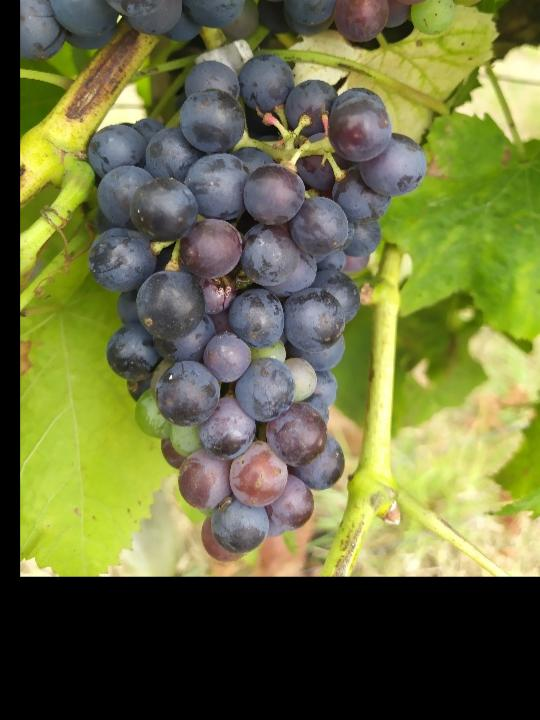grape: (89, 58, 430, 567)
